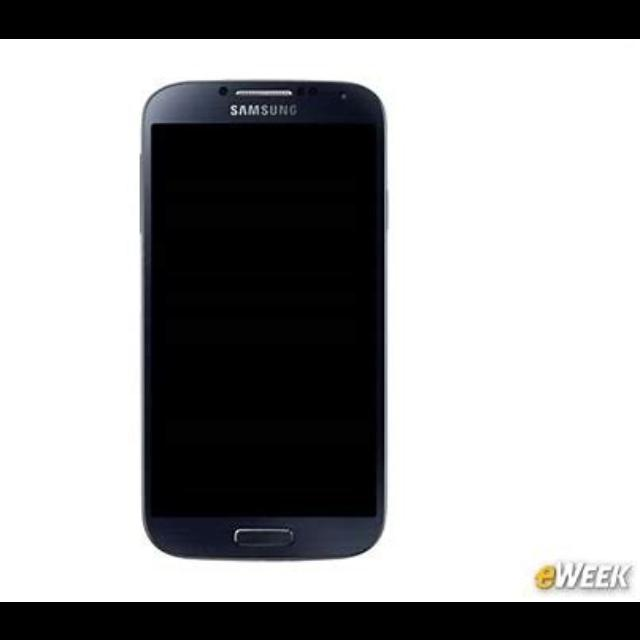Smartphone: (140, 78, 389, 562)
